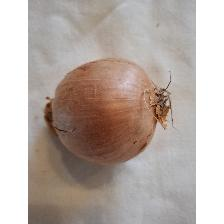Zwiebel: (42, 56, 180, 168)
